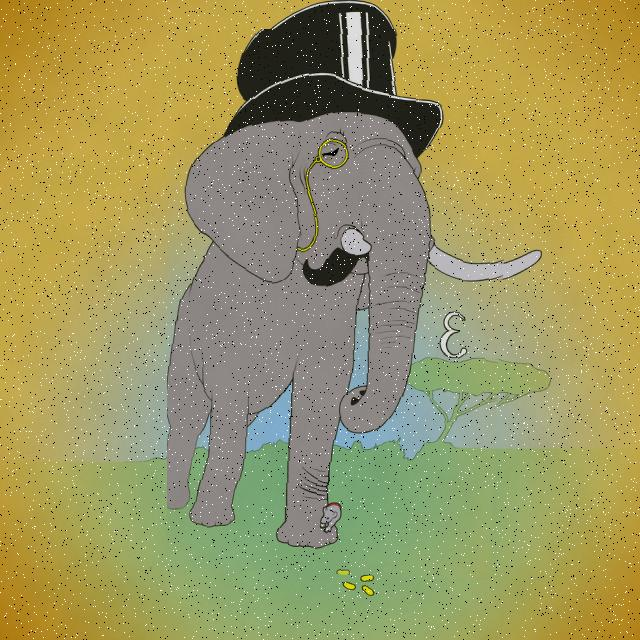elephant: (167, 29, 514, 580)
